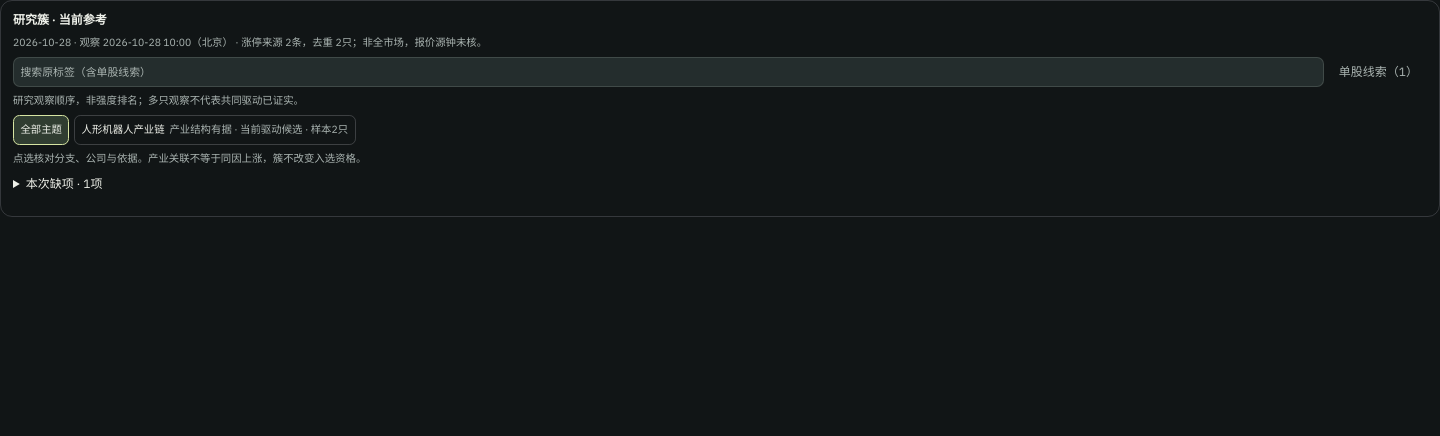
Test case: partial branch interaction narrows only observed stocks and restores the complete cluster sample
Click the button "人形机器人产业链" at (215, 130), box [74, 115, 356, 145]
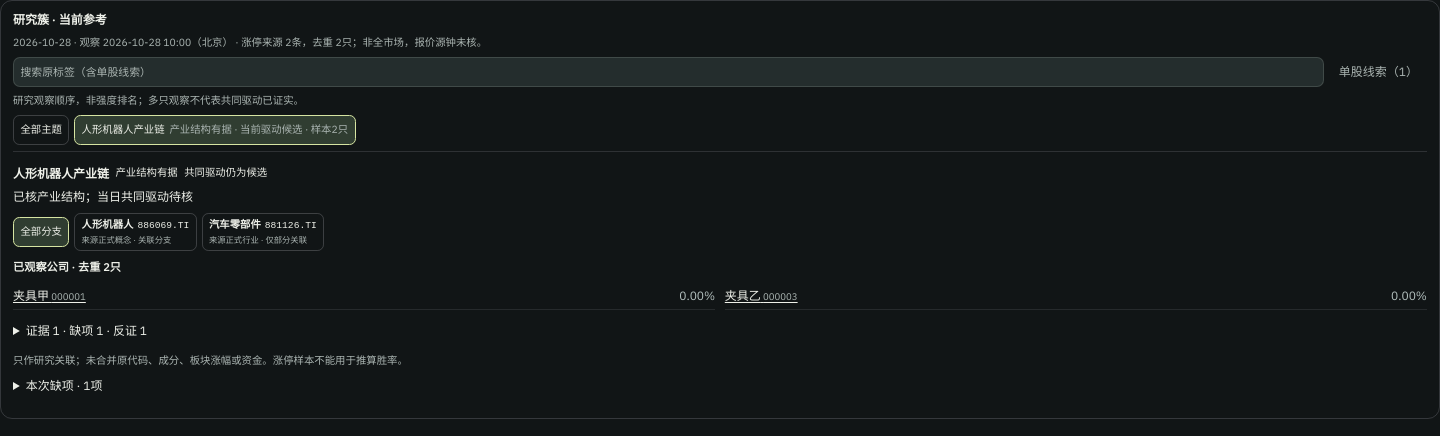
Now the link "夹具乙 000003" is shown, box [725, 287, 798, 305]
Click the button "汽车零部件881126.TI 来源正式行业 · 仅部分关联" at (263, 232), box [202, 213, 324, 251]
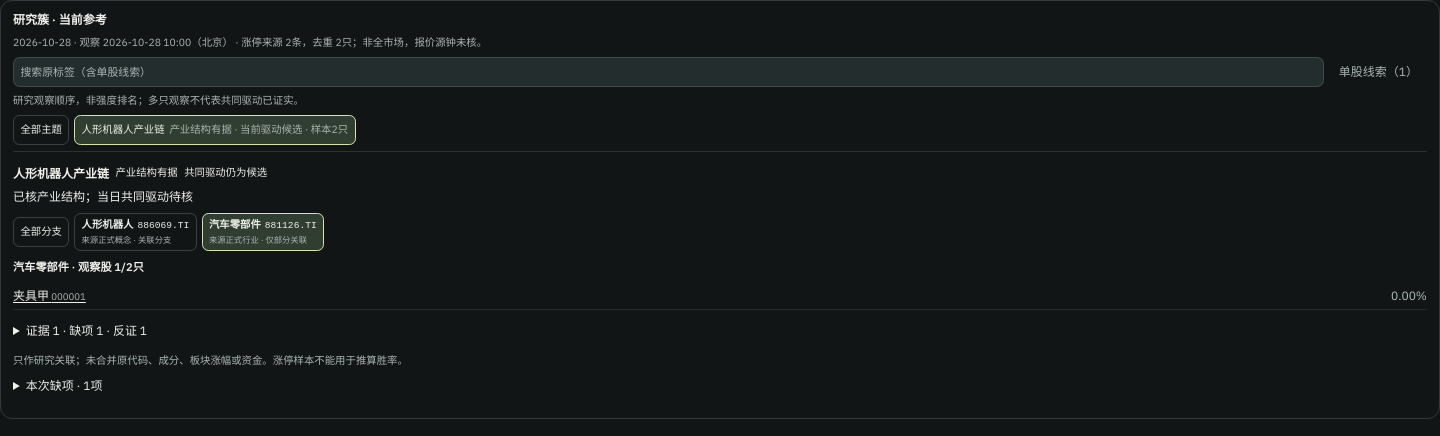
Now the link "夹具乙" is gone
Now the heading "汽车零部件 · 观察股 1/2只" is shown, box [13, 260, 144, 274]
Click the button "全部分支" at (41, 232), box [13, 217, 69, 247]
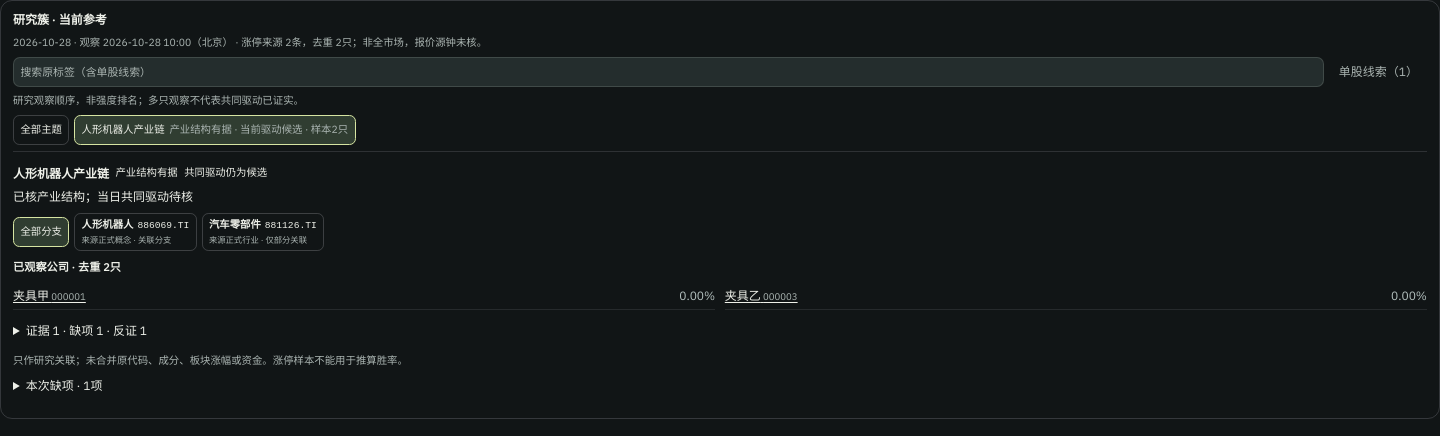
Now the link "夹具乙 000003" is shown, box [725, 287, 798, 305]
